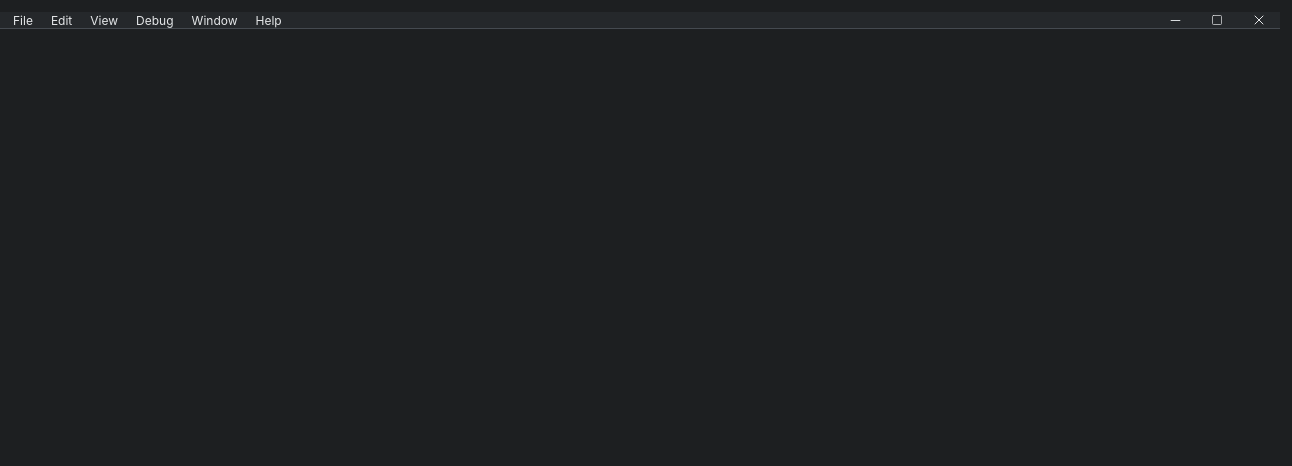
Test: MenuBar › enables Save and Save All only once something is modified
Click the menu item "File".
click(23, 20)  # box [4,12,42,28]
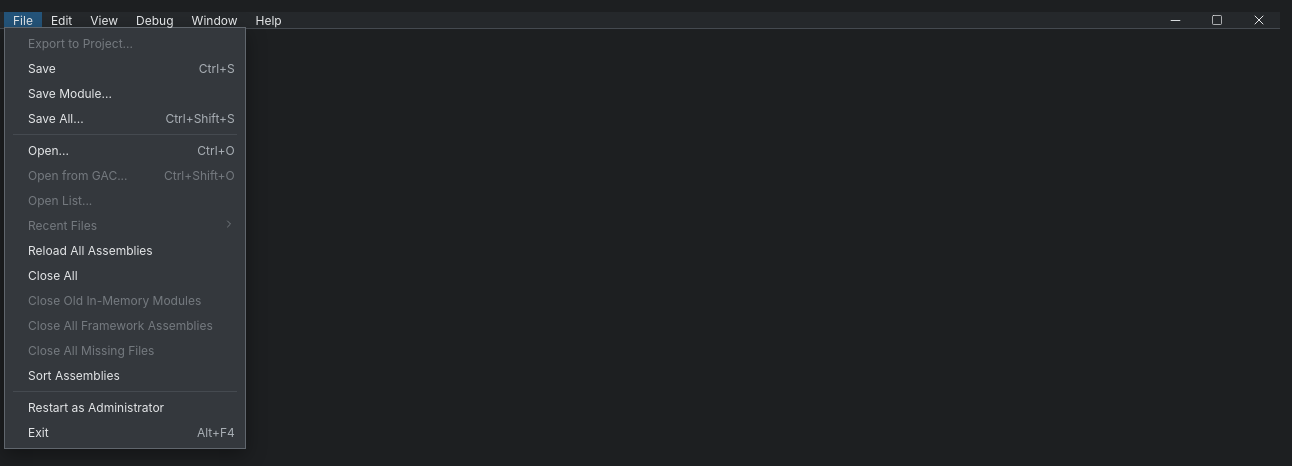
Now the menu item named "SaveCtrl" is enabled, box [8,56,242,81]
Now the menu item "Save All... Ctrl+Shift+S" is enabled, box [8,106,242,131]
